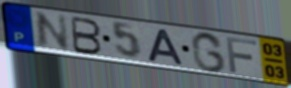5: (110, 20, 145, 63)
A: (145, 28, 186, 67)
B: (70, 15, 104, 57)
F: (224, 35, 260, 75)
G: (190, 31, 228, 74)
N: (34, 10, 72, 52)
